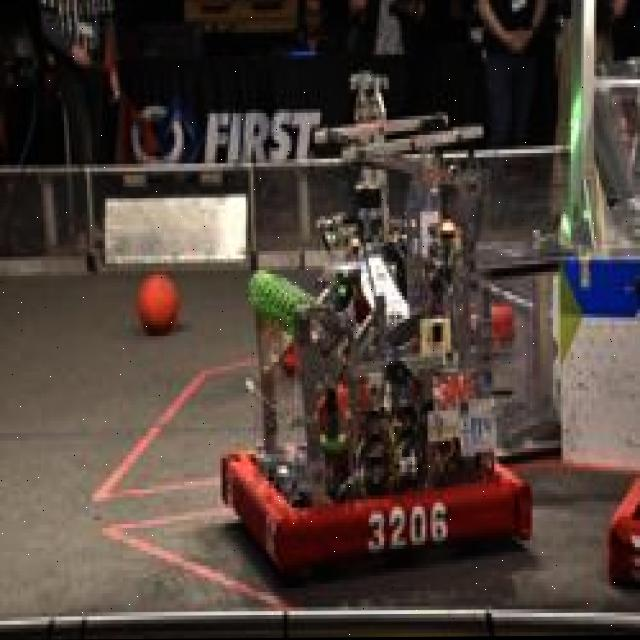robot: (212, 107, 539, 581)
